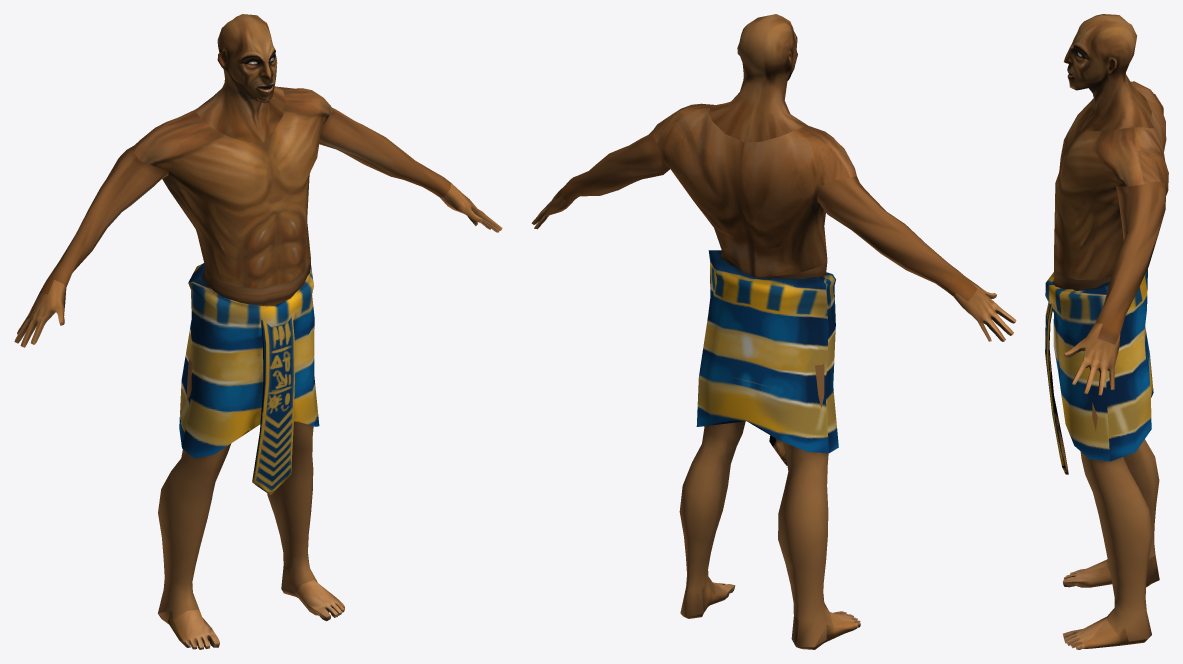
Rendered from hero.FBX.
3 views of the same model, side by side, from view 1: azimuth 30°, elevation 25°; view 2: azimuth 150°, elevation 25°; view 3: azimuth 270°, elevation 25° (orthographic).
Parts seen in each view (by area): view 1: H_M_A_ba2; view 2: H_M_A_ba2; view 3: H_M_A_ba2.
Part boxes in pixels (x1,y1,x2,y2): H_M_A_ba2: [14, 14, 502, 649]; H_M_A_ba2: [531, 14, 1016, 649]; H_M_A_ba2: [1045, 14, 1168, 649].
Bounding box in the file's own units: 274 × 332 × 62.39.
1 material, 1 textured.
